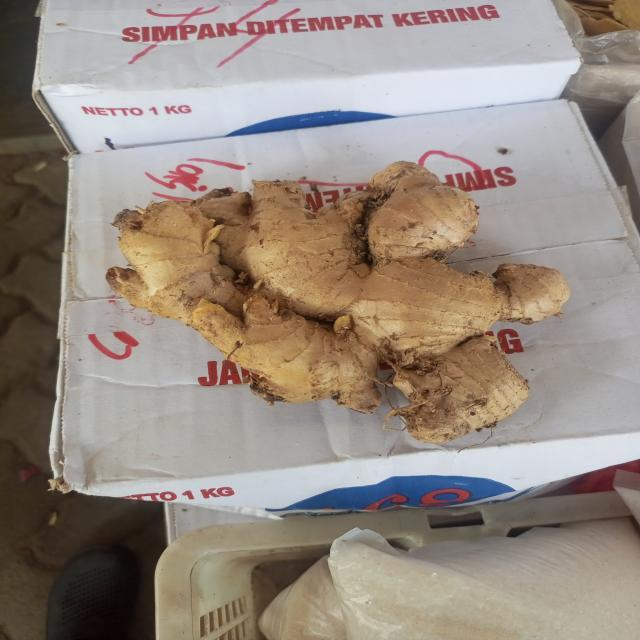ginger: (112, 166, 569, 448)
